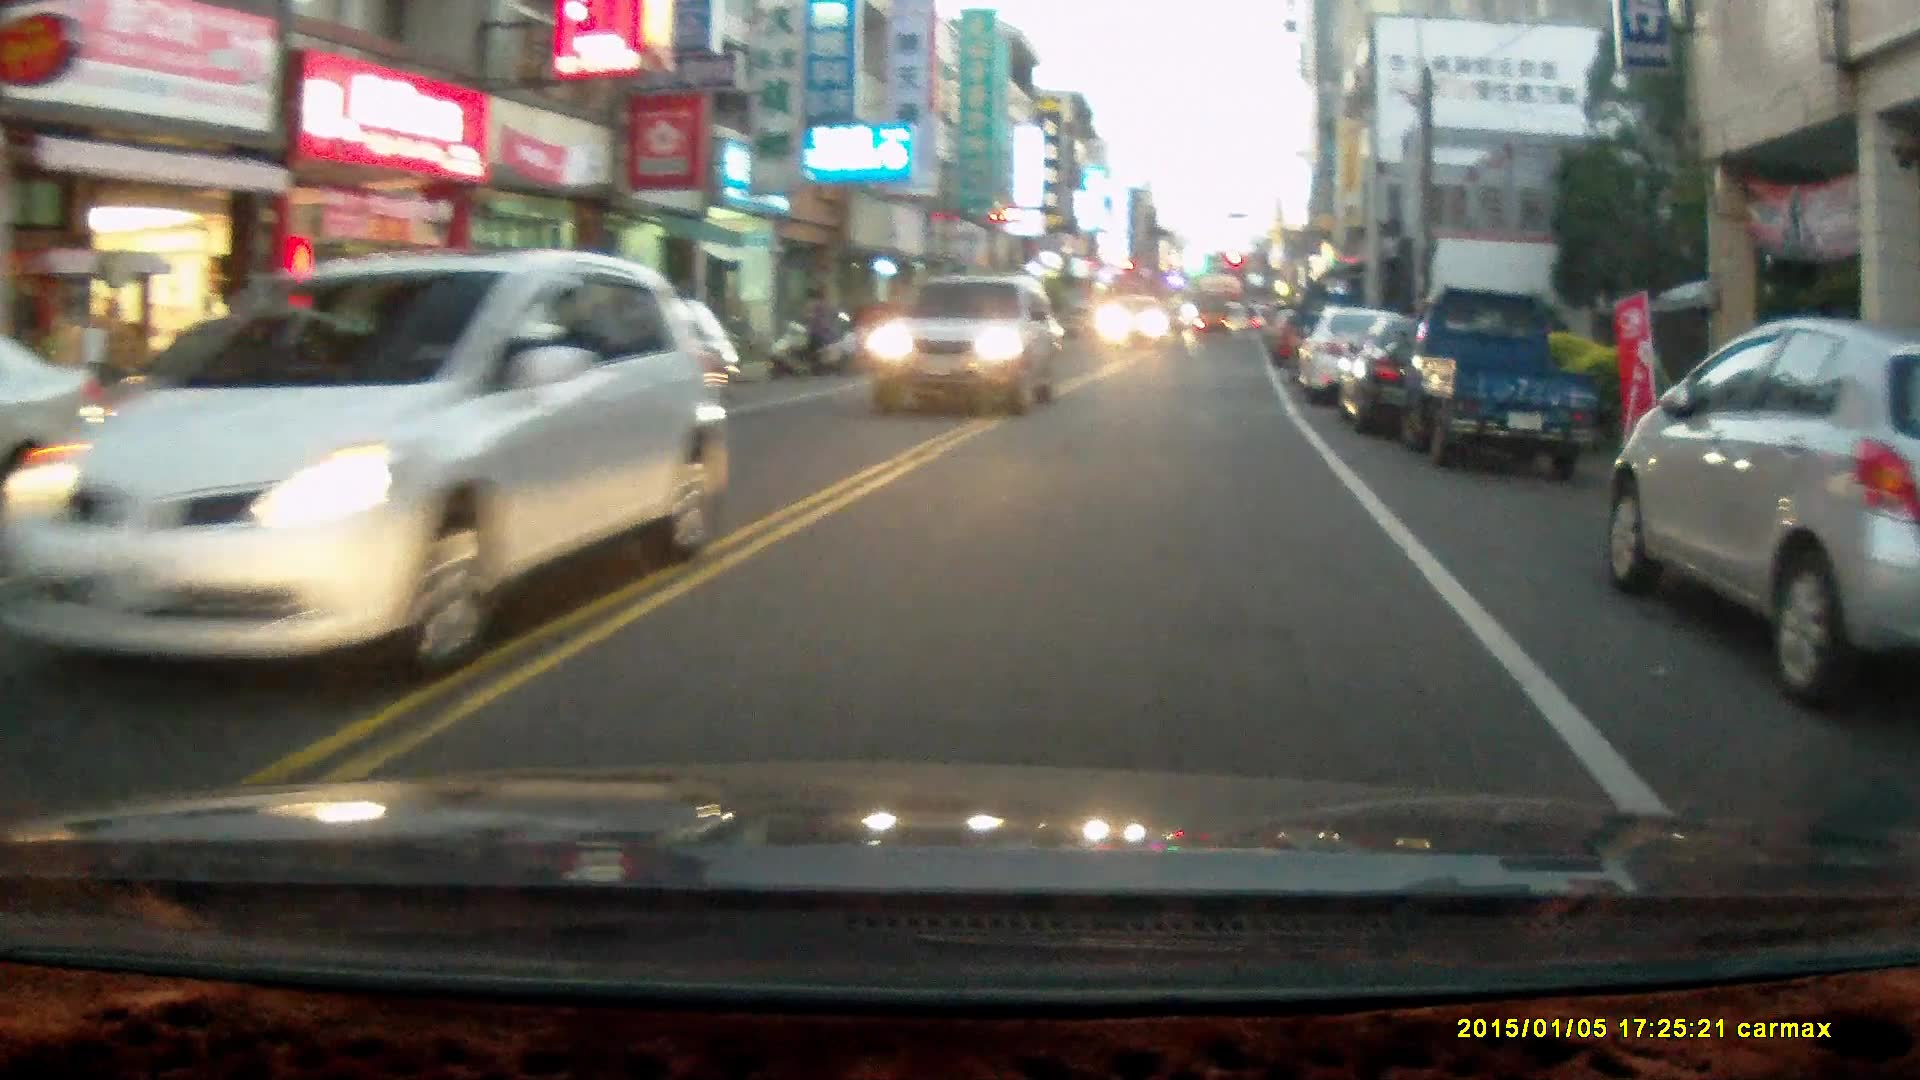pedestrian: (805, 290, 833, 383)
vehicle: (28, 252, 727, 681), (1599, 319, 1920, 706), (1400, 288, 1611, 481), (490, 297, 738, 445), (861, 274, 1064, 417), (1336, 305, 1540, 443), (1293, 304, 1449, 411), (1100, 294, 1178, 355)
